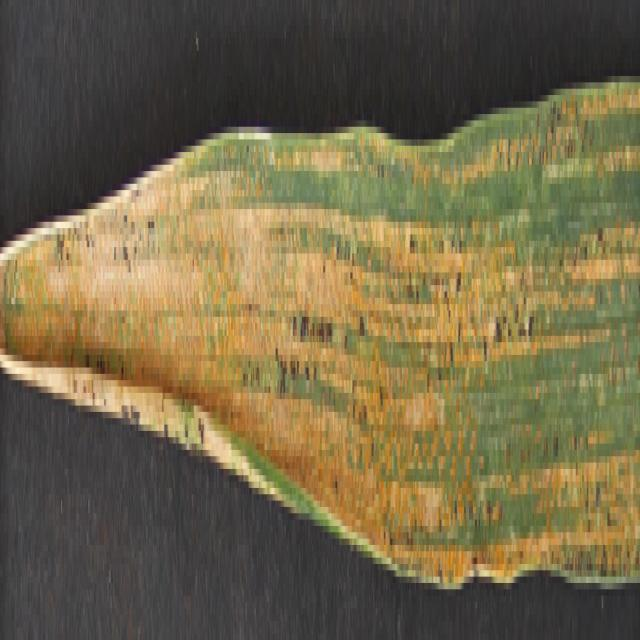leaf rust: (10, 76, 640, 564)
